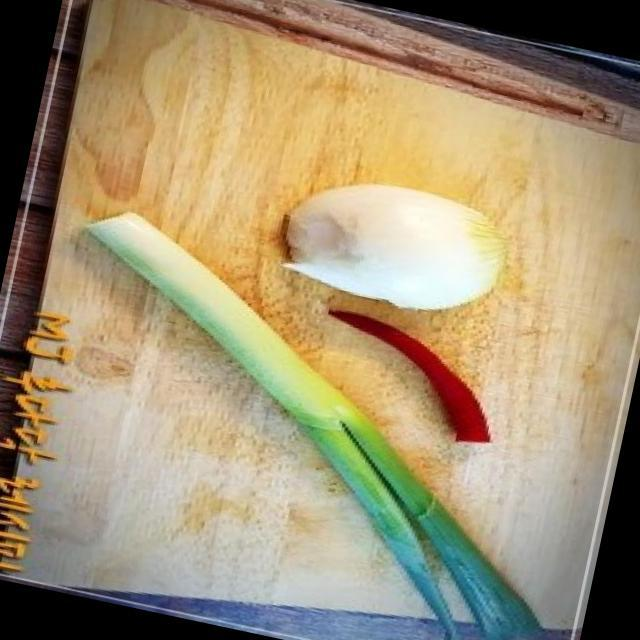Onion: (282, 186, 504, 313)
